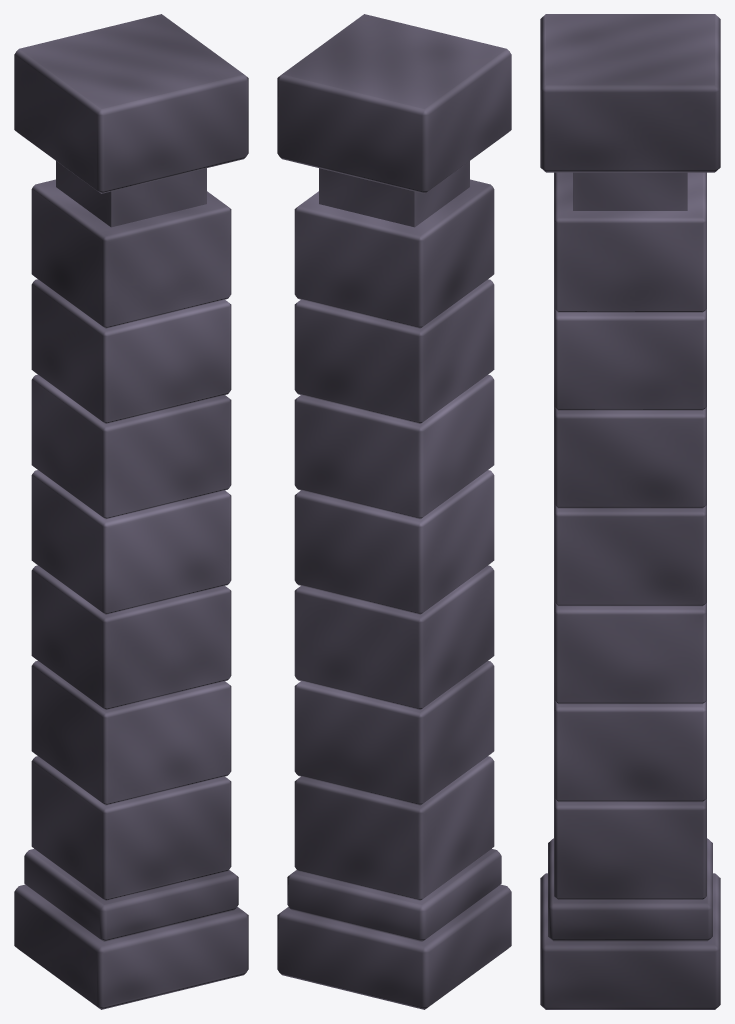
The model's file is Furn_Dun_WallCorner.fbx.
The picture shows the model from 3 angles, left to right: view 1: azimuth 30°, elevation 25°; view 2: azimuth 150°, elevation 25°; view 3: azimuth 270°, elevation 25°; orthographic projection. The views are drawn at different scales.
Visible parts, largest first — view 1: Furn_Dun_WallCorner; view 2: Furn_Dun_WallCorner; view 3: Furn_Dun_WallCorner.
Part boxes in pixels (x1,y1,x2,y2): Furn_Dun_WallCorner: (14, 14, 248, 1009); Furn_Dun_WallCorner: (277, 14, 511, 1009); Furn_Dun_WallCorner: (540, 14, 720, 1009).
Size of the model in its own units: 0.6 by 3.4 by 0.6.
1 material, 1 textured.
